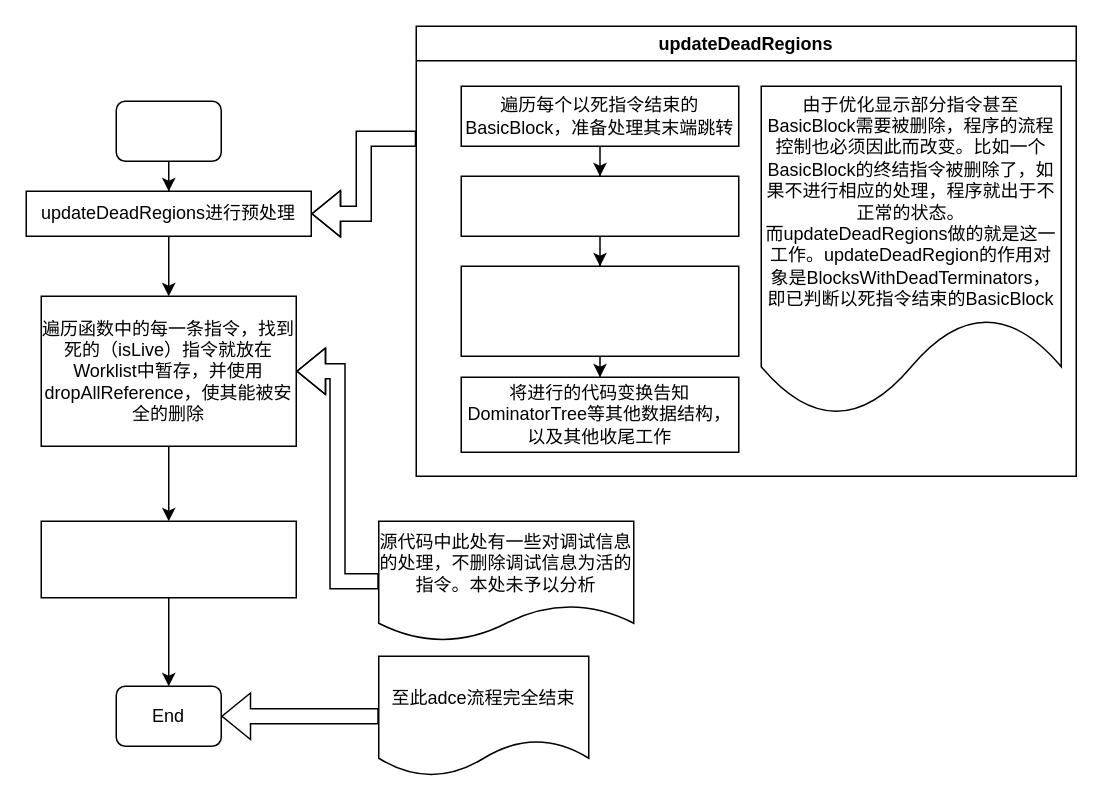
Some shapes in this 1103 by 803 pixel diagram are drawn without their labels. Here are the shapes that lost their labels. From the top down, the box of each, then its label:
(115, 100, 221, 161): Start
(460, 175, 739, 236): 找到其最佳的前驱BasicBlock
(460, 265, 739, 356): 使用makeUnconditional将处理的BasicBlock和找到的最佳前驱连接起来（移除之前有的连接，进行代码变换）
(40, 520, 296, 598): 遍历刚才收集的所有死指令，对其进行真正的删除操作（eraseFromParent）
